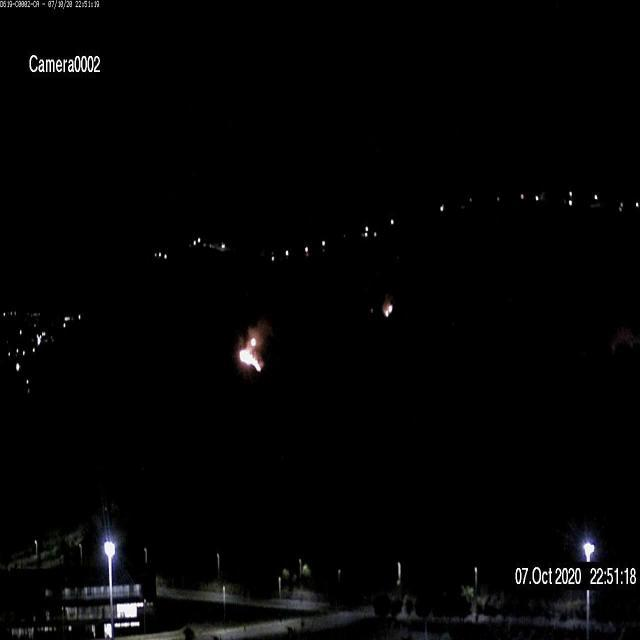Fire: (237, 329, 265, 372)
Smoke: (233, 320, 270, 374)
